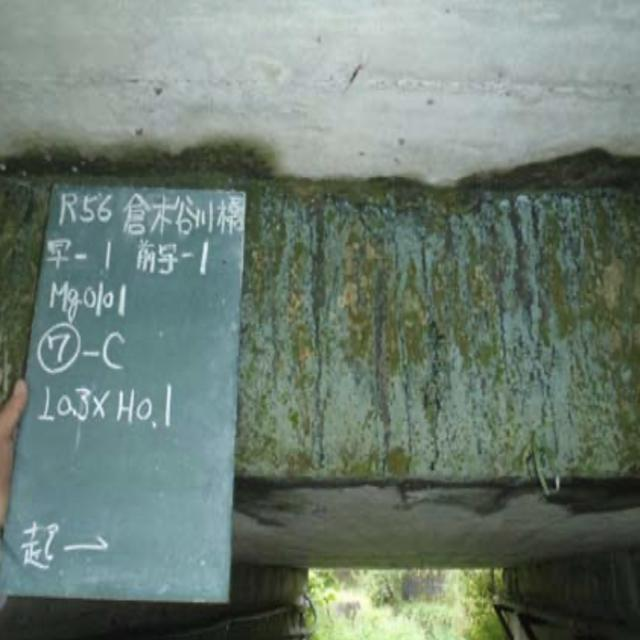leakage: (233, 140, 638, 474)
